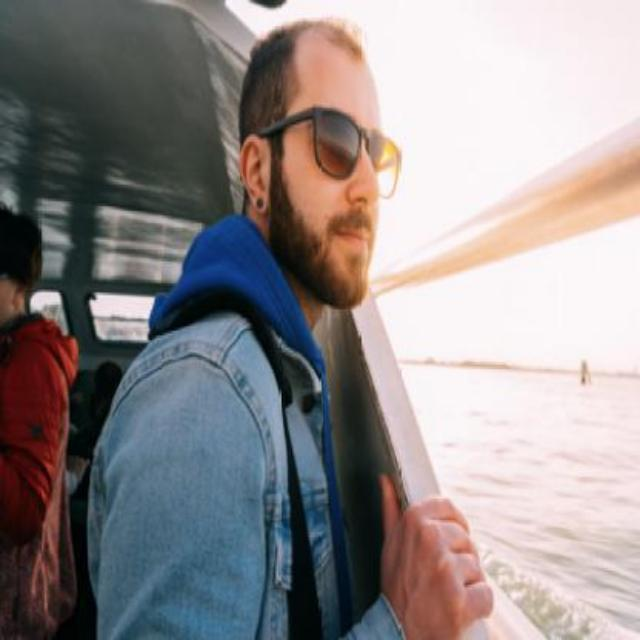sunglasses: (258, 105, 399, 198)
